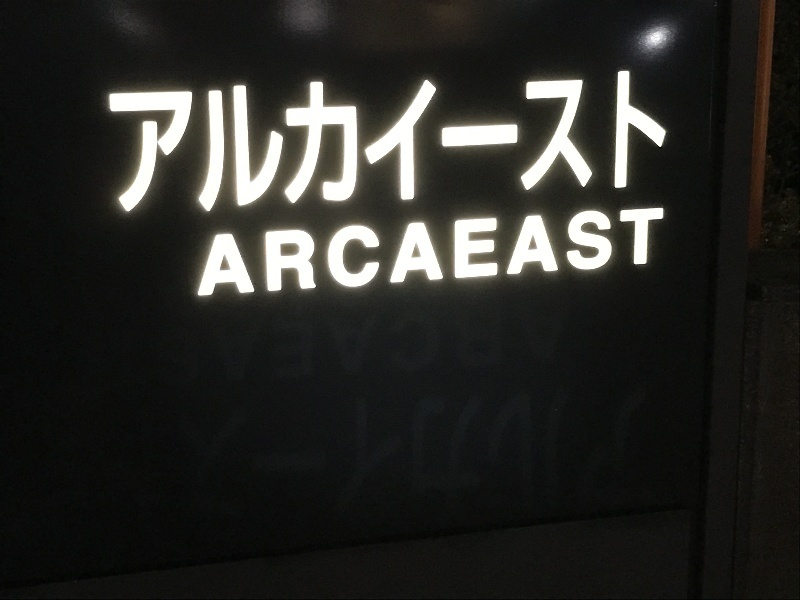text: (1, 98, 16, 186), (433, 290, 448, 364), (657, 163, 673, 214), (81, 188, 96, 241), (97, 188, 112, 241), (609, 163, 624, 214), (625, 163, 640, 214), (641, 163, 656, 214), (593, 205, 608, 252), (609, 205, 624, 252), (625, 205, 640, 252), (641, 205, 656, 252), (657, 205, 672, 252), (695, 1, 704, 79), (705, 1, 714, 79), (422, 285, 432, 346), (100, 302, 112, 349), (758, 160, 768, 213), (17, 98, 22, 186), (321, 164, 336, 193), (337, 164, 352, 193), (353, 164, 368, 193), (600, 163, 608, 214), (584, 205, 592, 252), (97, 45, 112, 70), (113, 188, 120, 241), (308, 164, 320, 193), (34, 263, 48, 287), (74, 188, 80, 241), (1, 59, 16, 79), (529, 178, 544, 198), (545, 178, 560, 198), (98, 65, 112, 86), (369, 164, 379, 193), (241, 232, 256, 251), (257, 232, 272, 251), (273, 232, 288, 251), (289, 232, 304, 251), (305, 232, 320, 251), (321, 232, 336, 251), (337, 232, 352, 251), (353, 232, 368, 251), (257, 171, 272, 190), (273, 171, 288, 190), (289, 171, 304, 190), (225, 176, 240, 195), (1, 18, 16, 36), (98, 30, 112, 48), (113, 45, 123, 70), (38, 263, 48, 287), (305, 56, 320, 72), (321, 56, 336, 72), (305, 73, 320, 89), (321, 73, 336, 89), (561, 178, 572, 198), (3, 49, 16, 64), (33, 220, 48, 233), (305, 44, 320, 57), (321, 44, 336, 57), (584, 72, 592, 96), (593, 72, 601, 96), (716, 5, 720, 52), (721, 5, 725, 52), (785, 193, 800, 205), (41, 263, 48, 288), (25, 264, 32, 288), (33, 327, 48, 338), (529, 164, 544, 175), (545, 164, 560, 175), (561, 164, 576, 175), (294, 73, 304, 89), (769, 160, 772, 213), (756, 193, 768, 206), (2, 43, 16, 54), (289, 164, 304, 174), (762, 134, 768, 159), (545, 230, 560, 240), (1, 272, 16, 282), (449, 290, 451, 364), (113, 30, 121, 48), (257, 163, 272, 172), (337, 73, 345, 89), (113, 65, 119, 86), (433, 369, 447, 378), (517, 164, 528, 175), (1, 1, 16, 9), (27, 263, 32, 287), (522, 178, 528, 198), (545, 266, 560, 274), (545, 299, 560, 307), (35, 237, 48, 246), (391, 283, 400, 296), (241, 176, 247, 195), (290, 358, 304, 366), (533, 230, 544, 240), (772, 268, 784, 277), (545, 285, 560, 292), (545, 292, 560, 299), (545, 307, 560, 314), (545, 315, 560, 322), (33, 319, 48, 326), (209, 342, 224, 349), (225, 342, 240, 349), (241, 342, 256, 349), (755, 230, 768, 238), (17, 59, 22, 79), (593, 101, 602, 112), (44, 263, 48, 287), (356, 307, 368, 315), (756, 223, 768, 231), (561, 266, 573, 274), (561, 299, 573, 307), (209, 355, 225, 361), (673, 205, 675, 252), (25, 220, 32, 233), (33, 292, 46, 299), (179, 343, 192, 350), (54, 218, 64, 227), (545, 274, 560, 280), (177, 376, 187, 385), (785, 226, 788, 256), (33, 343, 48, 349), (584, 101, 592, 112), (24, 327, 32, 338), (561, 307, 573, 314), (561, 315, 573, 322), (280, 164, 288, 174), (54, 209, 64, 217), (369, 307, 379, 315), (534, 266, 544, 274), (534, 299, 544, 307), (241, 372, 257, 377), (533, 285, 544, 292), (561, 285, 572, 292), (561, 292, 572, 299), (305, 171, 309, 190), (93, 45, 96, 70), (113, 370, 128, 375), (209, 326, 224, 331), (225, 326, 240, 331), (209, 372, 224, 377), (225, 372, 240, 377), (177, 362, 192, 367), (534, 292, 544, 299), (534, 307, 544, 314), (534, 315, 544, 322), (561, 274, 572, 280), (37, 353, 48, 359), (300, 56, 304, 72), (225, 379, 241, 383), (65, 218, 72, 227), (169, 376, 176, 385), (433, 285, 434, 346), (534, 274, 544, 280), (225, 331, 240, 335), (225, 338, 240, 342), (241, 338, 256, 342), (305, 272, 320, 276), (1, 335, 16, 339), (225, 163, 240, 167), (49, 263, 51, 292), (237, 232, 240, 251), (24, 319, 32, 326), (210, 338, 224, 342), (769, 90, 777, 97), (241, 326, 252, 331), (273, 163, 279, 172), (17, 18, 20, 36), (769, 125, 778, 131), (300, 44, 304, 57), (337, 44, 341, 57), (291, 272, 304, 276), (321, 272, 334, 276), (33, 339, 43, 344), (25, 292, 32, 299), (65, 209, 71, 217), (337, 56, 340, 72), (769, 230, 775, 238), (212, 331, 224, 335), (209, 360, 225, 363), (84, 371, 96, 375), (756, 243, 768, 247), (218, 170, 224, 178), (427, 369, 432, 378), (1, 315, 16, 318), (1, 325, 16, 328), (1, 339, 16, 342), (1, 342, 16, 345), (1, 349, 16, 352), (769, 35, 784, 38), (769, 104, 778, 109), (1, 285, 16, 288), (17, 43, 21, 54), (757, 240, 768, 244), (770, 85, 784, 88), (770, 250, 784, 253), (25, 343, 32, 349), (769, 223, 774, 231), (104, 370, 112, 375), (769, 64, 777, 69), (769, 77, 777, 82), (214, 379, 224, 383), (254, 171, 256, 190), (388, 262, 400, 265), (233, 163, 240, 168), (37, 350, 48, 353), (24, 300, 32, 304), (184, 325, 192, 329), (17, 49, 19, 64), (369, 279, 384, 281), (1, 333, 16, 335), (783, 226, 784, 256), (561, 230, 564, 240), (209, 350, 224, 352), (111, 303, 112, 331), (113, 303, 114, 331), (353, 301, 360, 305), (34, 355, 48, 357), (369, 330, 376, 334), (220, 165, 224, 172), (39, 301, 48, 304), (123, 356, 128, 361), (31, 263, 32, 287), (33, 300, 39, 304), (33, 350, 36, 358), (769, 101, 775, 105), (369, 275, 380, 277), (369, 281, 380, 283), (577, 164, 579, 175), (49, 319, 52, 326), (205, 342, 208, 349), (305, 164, 307, 174), (353, 275, 363, 277), (353, 277, 363, 279), (353, 280, 363, 282), (97, 371, 102, 375), (769, 243, 774, 247), (785, 215, 787, 225), (289, 374, 294, 378), (369, 232, 370, 251), (254, 163, 256, 172), (369, 277, 378, 279), (39, 299, 48, 301), (348, 301, 352, 305), (769, 240, 773, 244), (364, 330, 368, 334), (765, 64, 768, 69), (289, 371, 294, 374), (766, 90, 768, 97), (241, 331, 244, 335), (766, 125, 768, 131), (49, 327, 50, 338), (347, 280, 352, 282), (766, 77, 768, 82), (766, 104, 768, 109), (783, 215, 784, 225), (31, 350, 32, 358), (348, 275, 352, 277), (348, 277, 352, 279), (364, 275, 368, 277), (364, 281, 368, 283), (257, 342, 258, 349), (785, 258, 788, 260), (49, 343, 50, 349), (49, 301, 51, 304), (31, 339, 32, 344), (129, 356, 130, 361), (257, 338, 258, 342), (366, 277, 368, 279), (207, 360, 208, 363), (783, 258, 784, 260)
